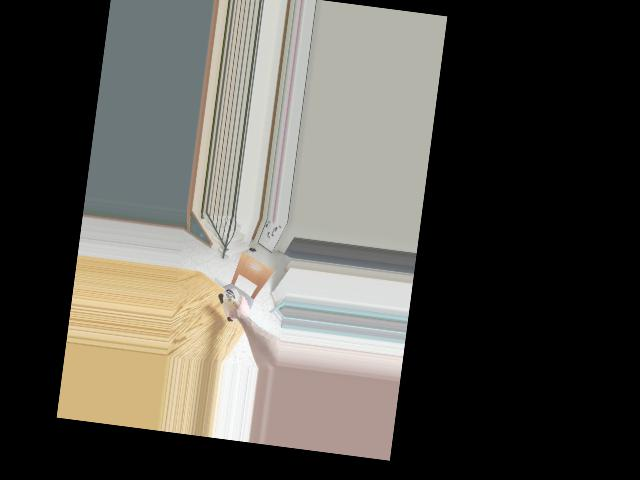cheese: (215, 286, 251, 326)
